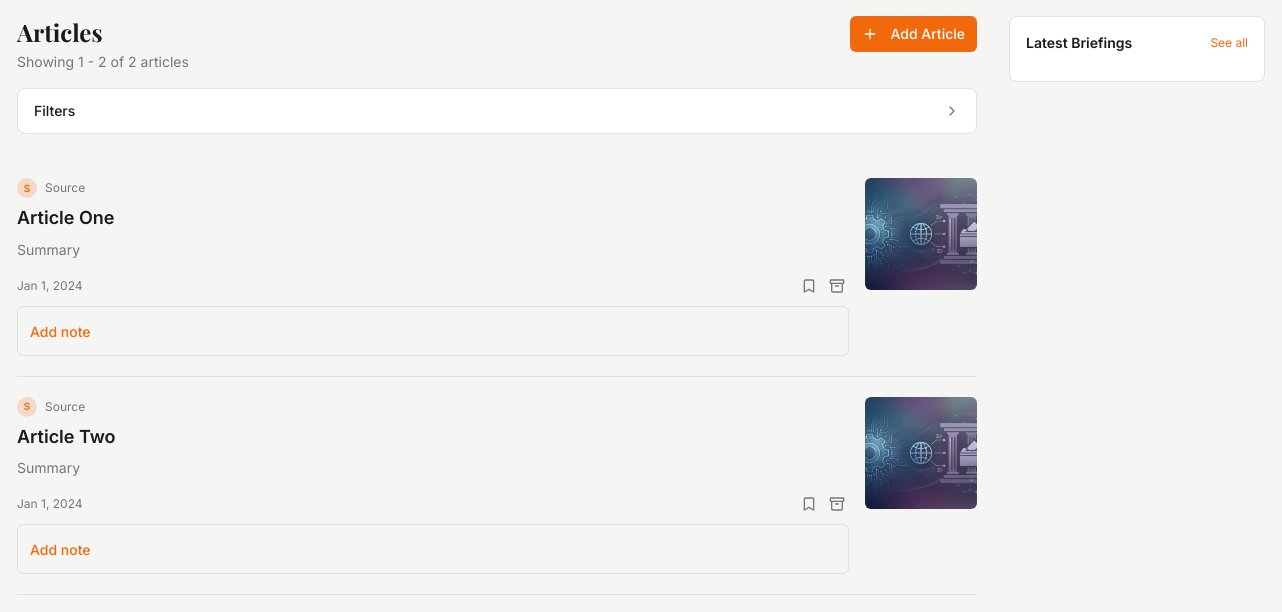
Test: ArticlesPage archive view › removes the card immediately when an article is archived
Expected: the heading "Article One" is shown, [17,207,114,228]
Click the 1st button named "archive" at (837, 286), box [825,274,849,298]
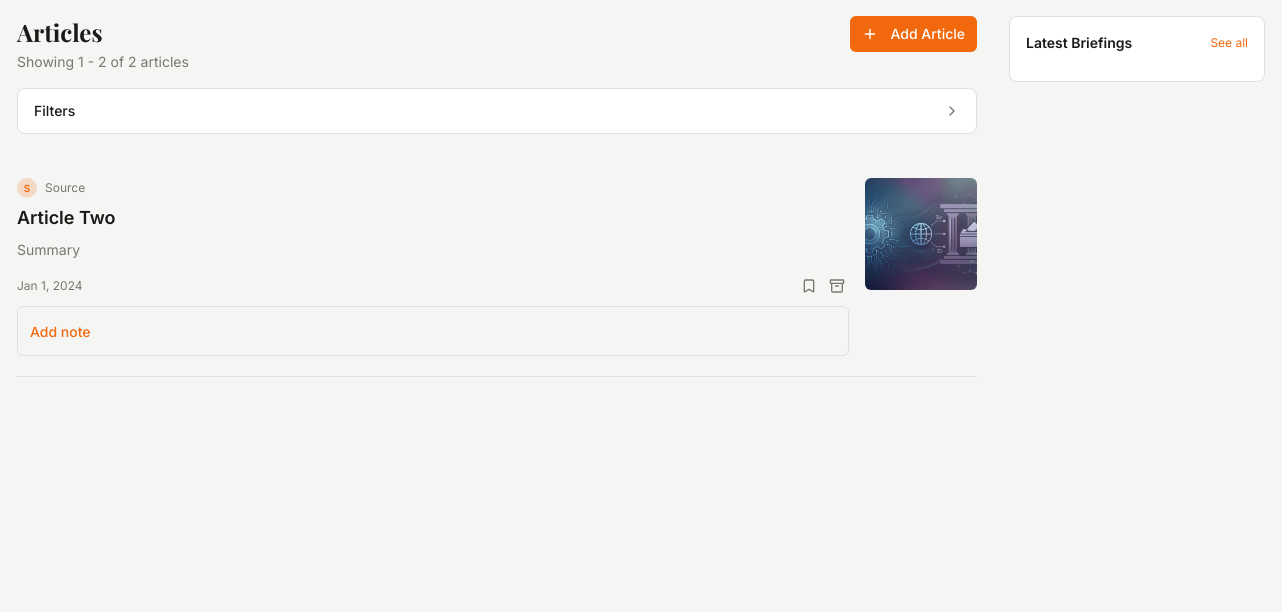
Expected: the heading "Article Two" is shown, [17,207,116,228]
Expected: the link "Article One" is gone
